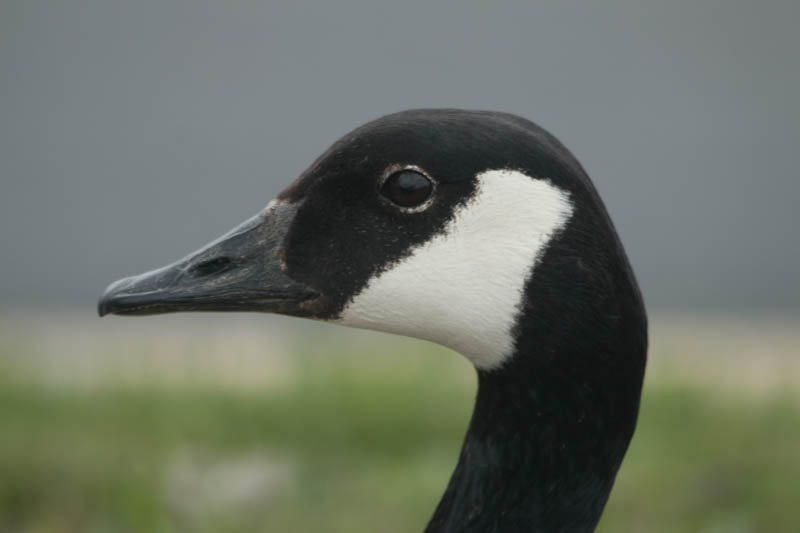goose-head: (97, 109, 649, 378)
